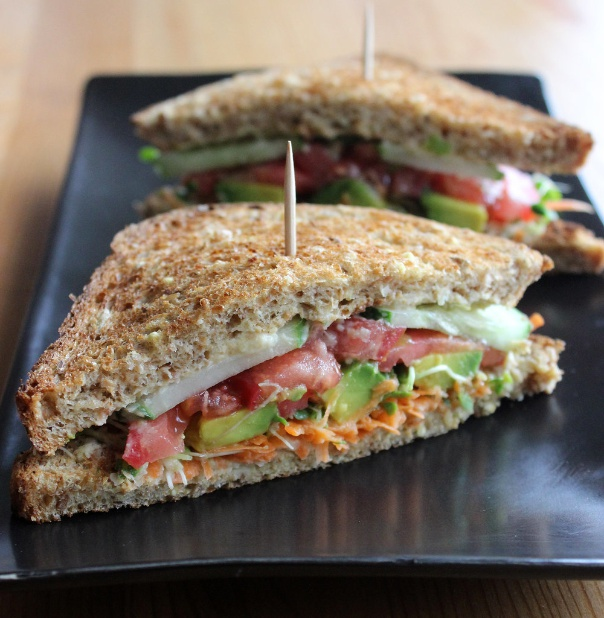slice of bread: (39, 220, 518, 437)
